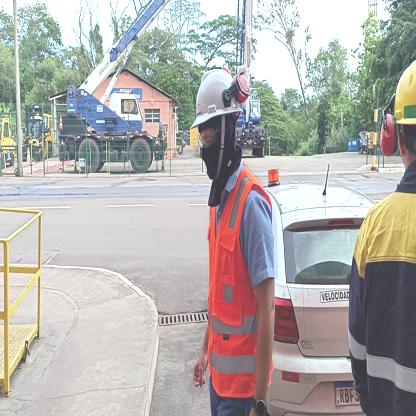Balaclava: (190, 122, 248, 194)
C_eletrica: (350, 197, 416, 416)
Capacete: (190, 62, 243, 122), (384, 64, 416, 138)
colete: (206, 181, 272, 394)
